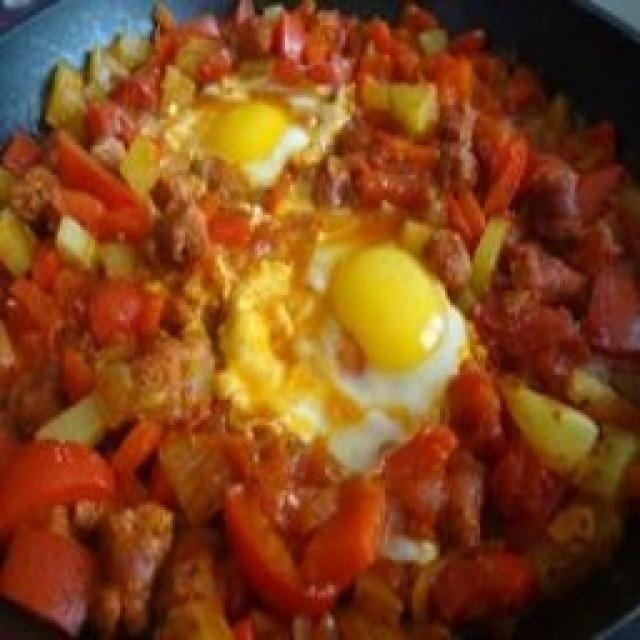Chakchouka: (0, 6, 640, 640)
